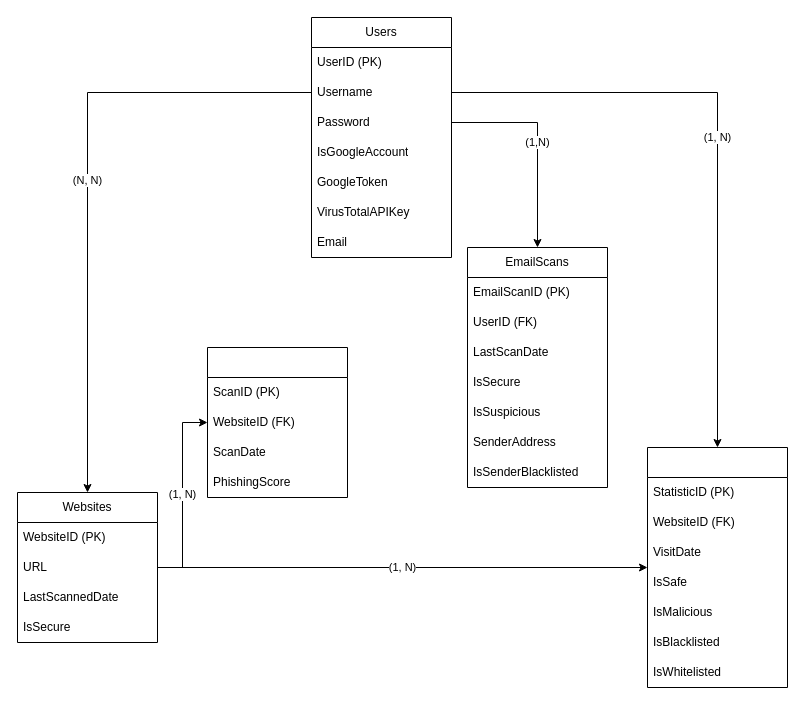
This 805x705 diagram has some shape labels left out. The box of each missing label's shape, as (x1, y1, x2, y2) in pixels:
Scans: (206, 346, 348, 498)
WebsiteStatistics: (646, 446, 788, 688)
